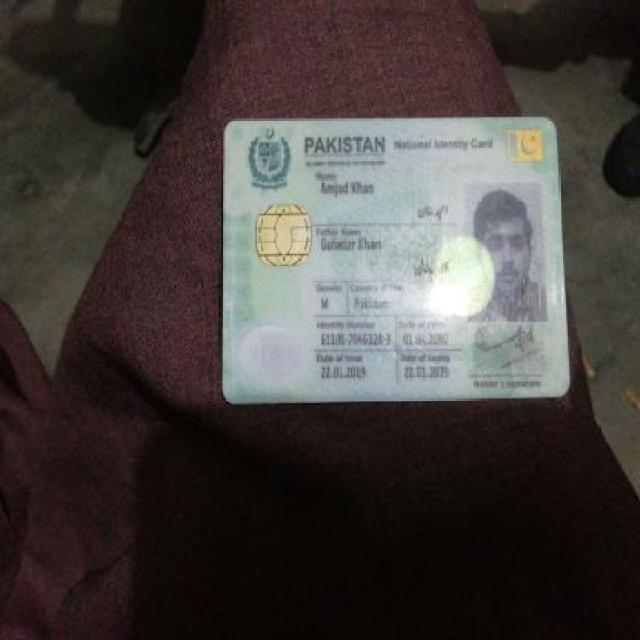Front: (214, 112, 572, 400)
